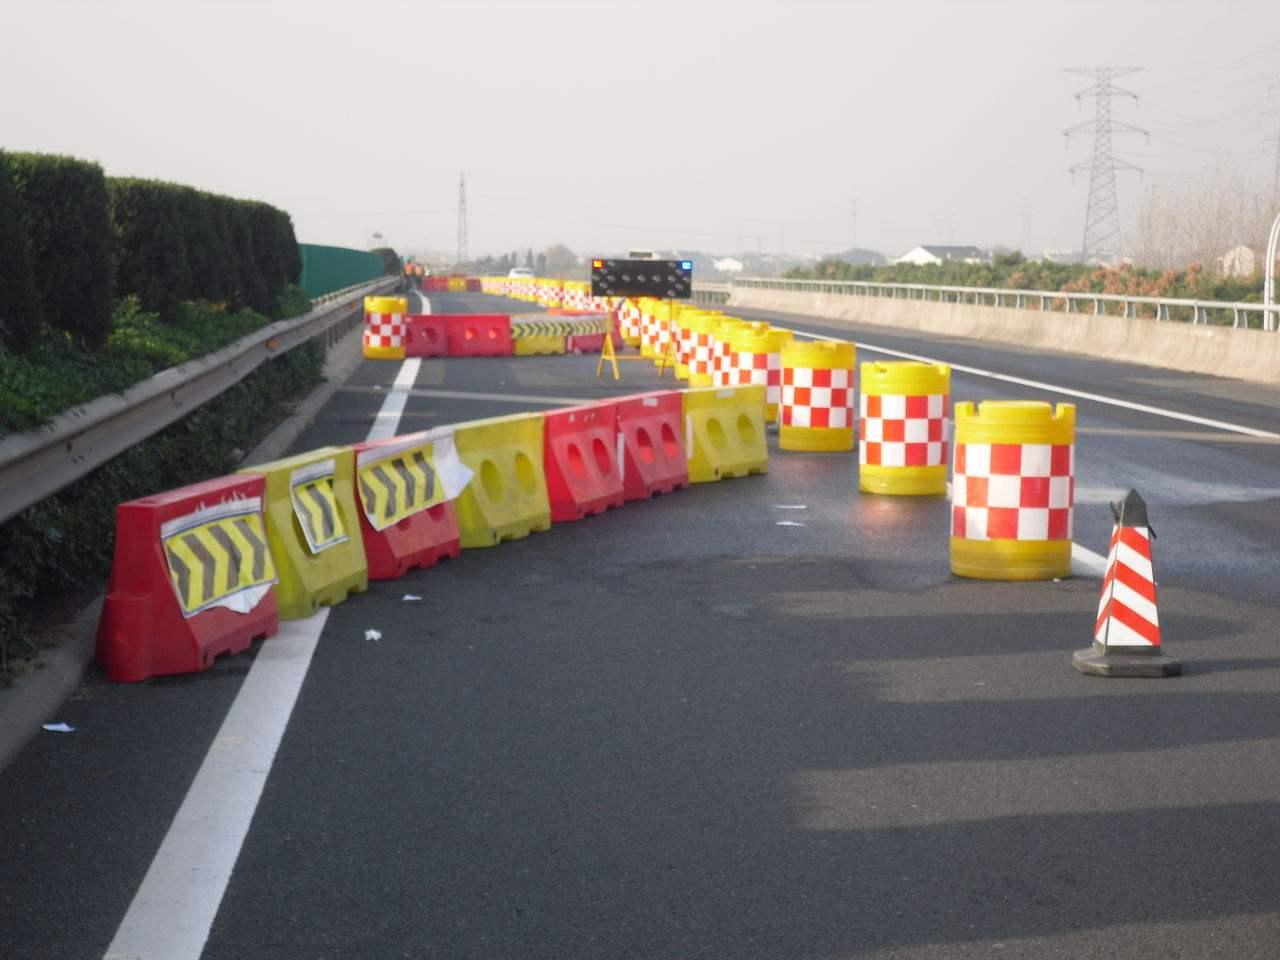sign: (109, 419, 442, 676), (447, 382, 772, 537), (950, 394, 1085, 585), (1086, 488, 1187, 680), (856, 351, 952, 498), (408, 304, 606, 356), (780, 335, 861, 447), (352, 290, 404, 358)
